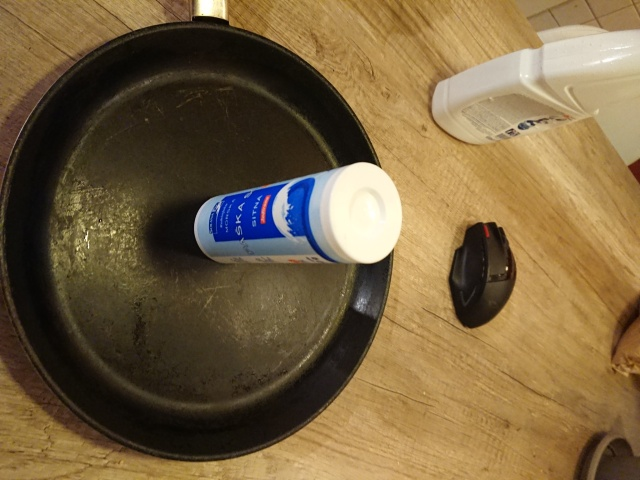Solana Pag Fine Sea Salt 250g: (190, 160, 406, 269)
